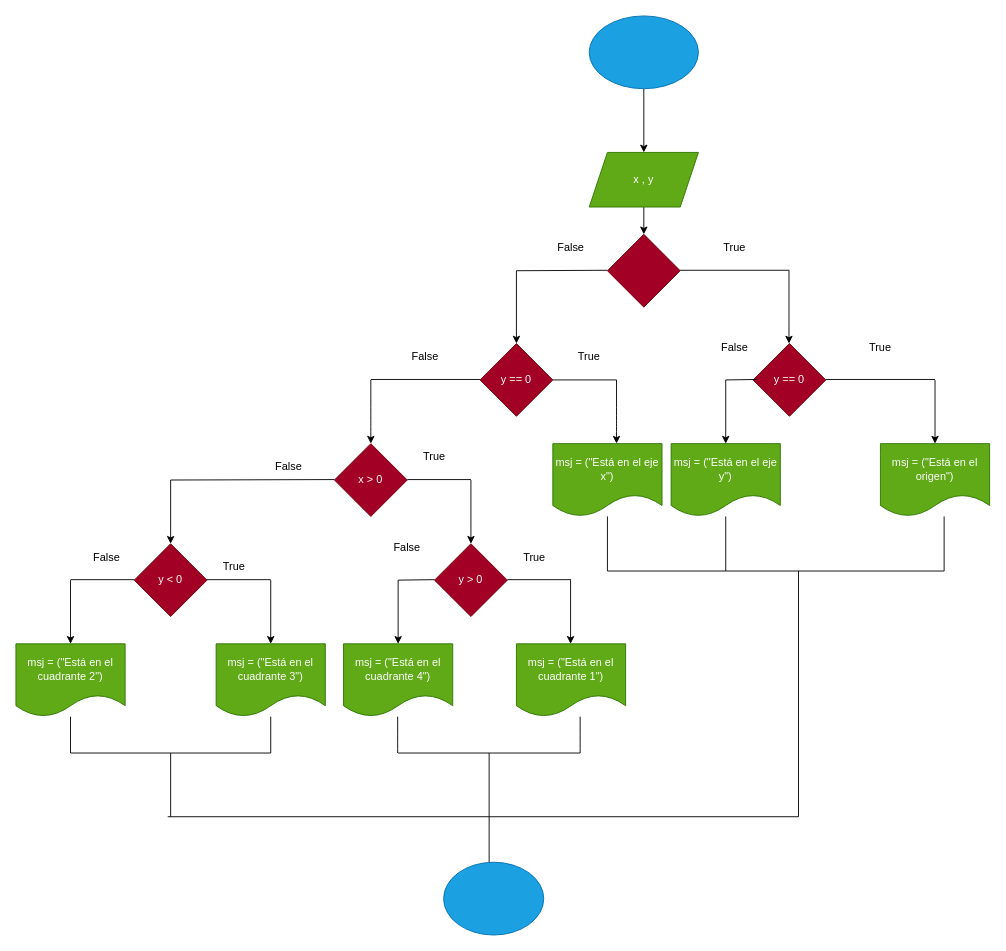
Some shapes in this 1006 by 951 pixel diagram are drawn without their labels. Here are the shapes that lost their labels. From the top down, the centre of each, then its label:
At (643,52): "Inicio".
At (643,270): "x == 0".
At (493,898): "Fin".
